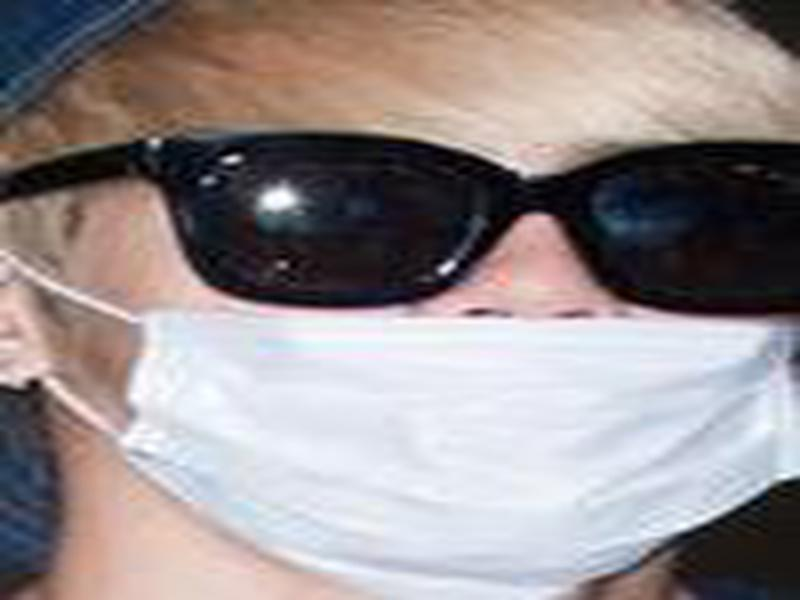with_mask: (1, 7, 797, 600)
